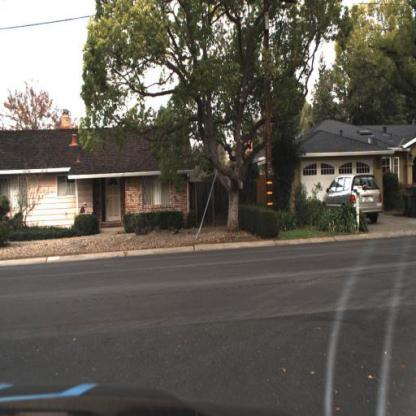car: (319, 170, 383, 224)
